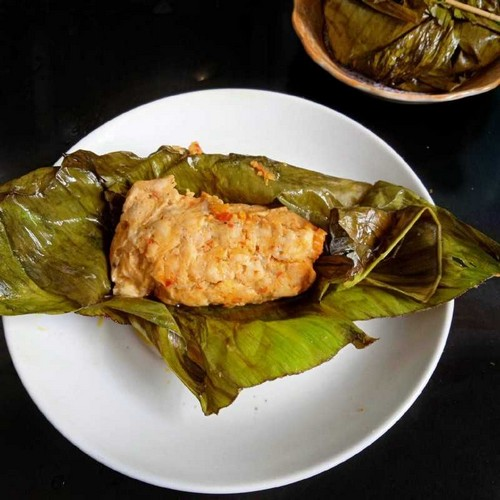tum ayam: (106, 176, 331, 318)
